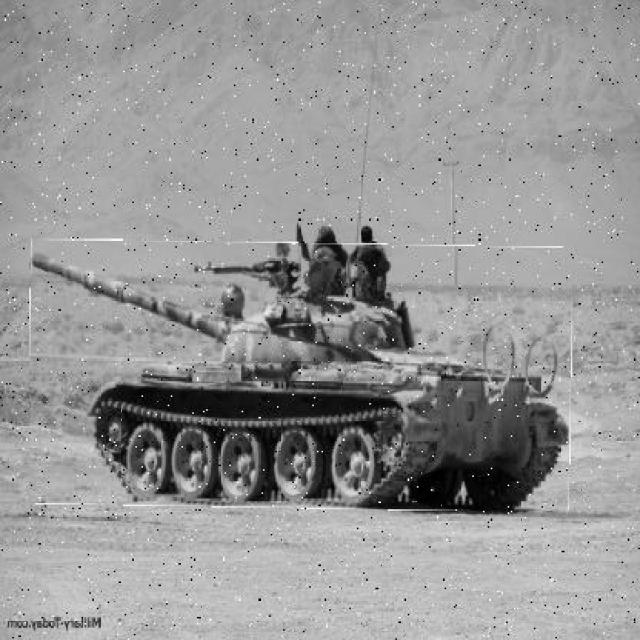Tank: (31, 243, 574, 510)
